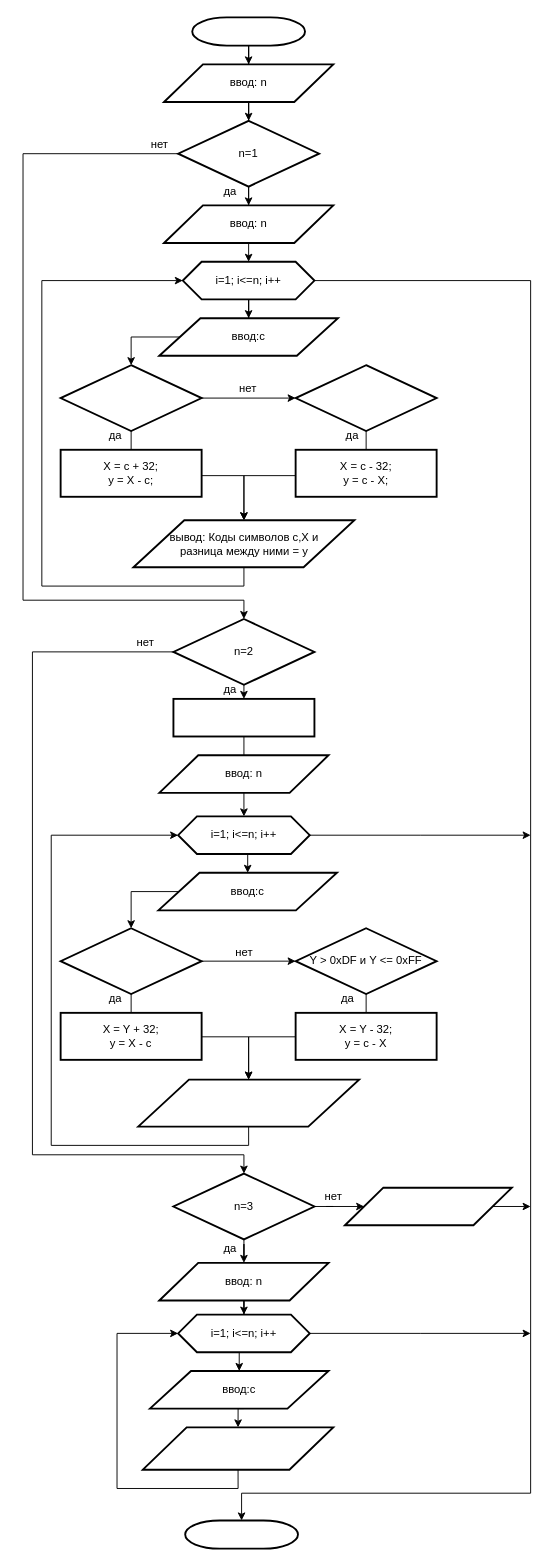
This 555x1565 diagram has some shape labels left out. Each missing label, with the centre of its shape:
c > 0x40 и c < 0x5B: pixel 130 397
c > 0x60 и c < 0x7B: pixel 365 397
Y = c + 256: pixel 243 717
Y > 0xBF и Y < 0xE0: pixel 130 961
вывод: Завершение: pixel 428 1206
вывод: Коды символа с: pixel 237 1448
вывод: Коды символов c,Y и разница между ними = y: pixel 248 1102
конец: pixel 241 1534
начало: pixel 248 31
